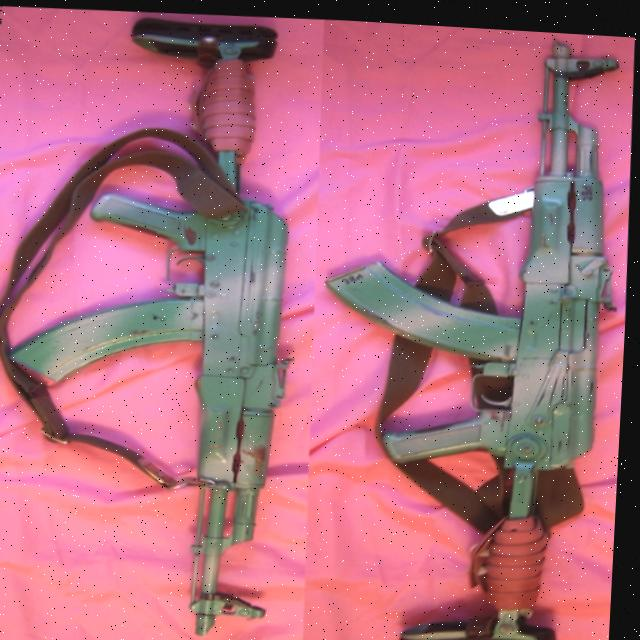firearm: (299, 17, 640, 640), (0, 5, 325, 640)
